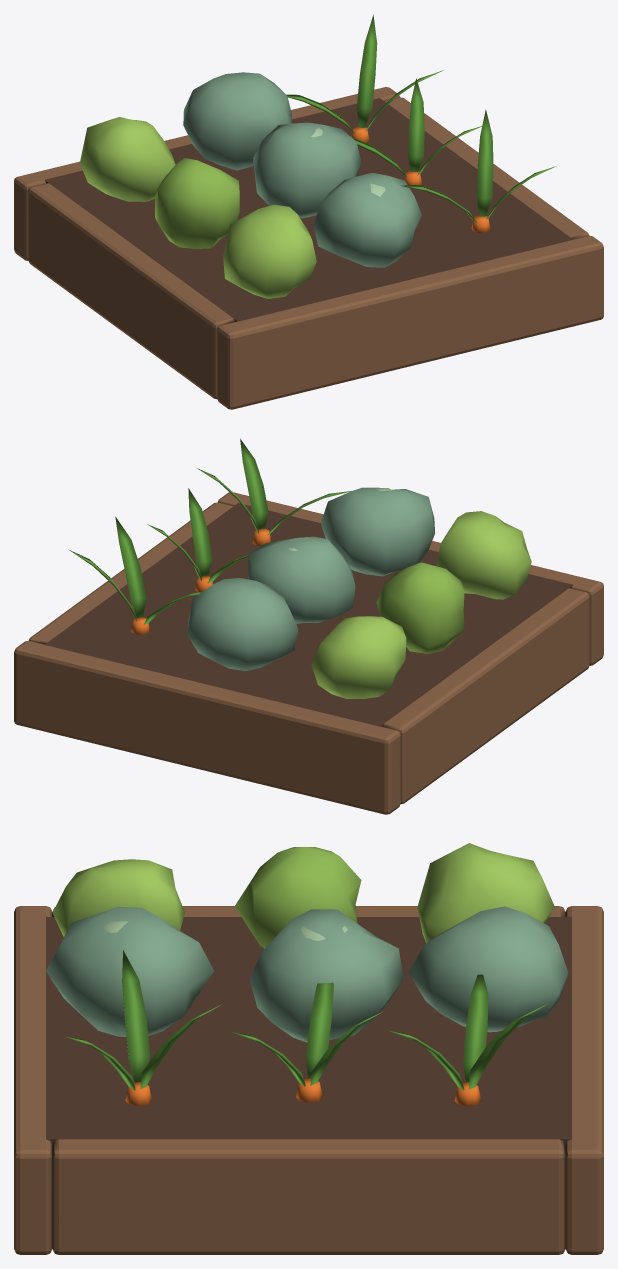
Rendered from vegPatch.glb.
3 views of the same model, one above another, from view 1: azimuth 30°, elevation 25°; view 2: azimuth 150°, elevation 25°; view 3: azimuth 270°, elevation 25° (orthographic). The views are drawn at different scales.
Visible parts, largest first — view 1: vegPatch, plants, crop; view 2: vegPatch, plants, crop; view 3: vegPatch, plants, crop.
Boxes of the visible parts, box(x1,y1,x2,y2) form: vegPatch: box(14, 87, 603, 409); plants: box(80, 14, 556, 298); crop: box(294, 124, 490, 232); vegPatch: box(14, 492, 603, 814); plants: box(68, 438, 531, 698); crop: box(131, 488, 392, 634); vegPatch: box(14, 906, 603, 1254); plants: box(46, 843, 568, 1090); crop: box(101, 921, 481, 1106).
Size of the model in its own units: 0.92 by 0.3979 by 0.92.
